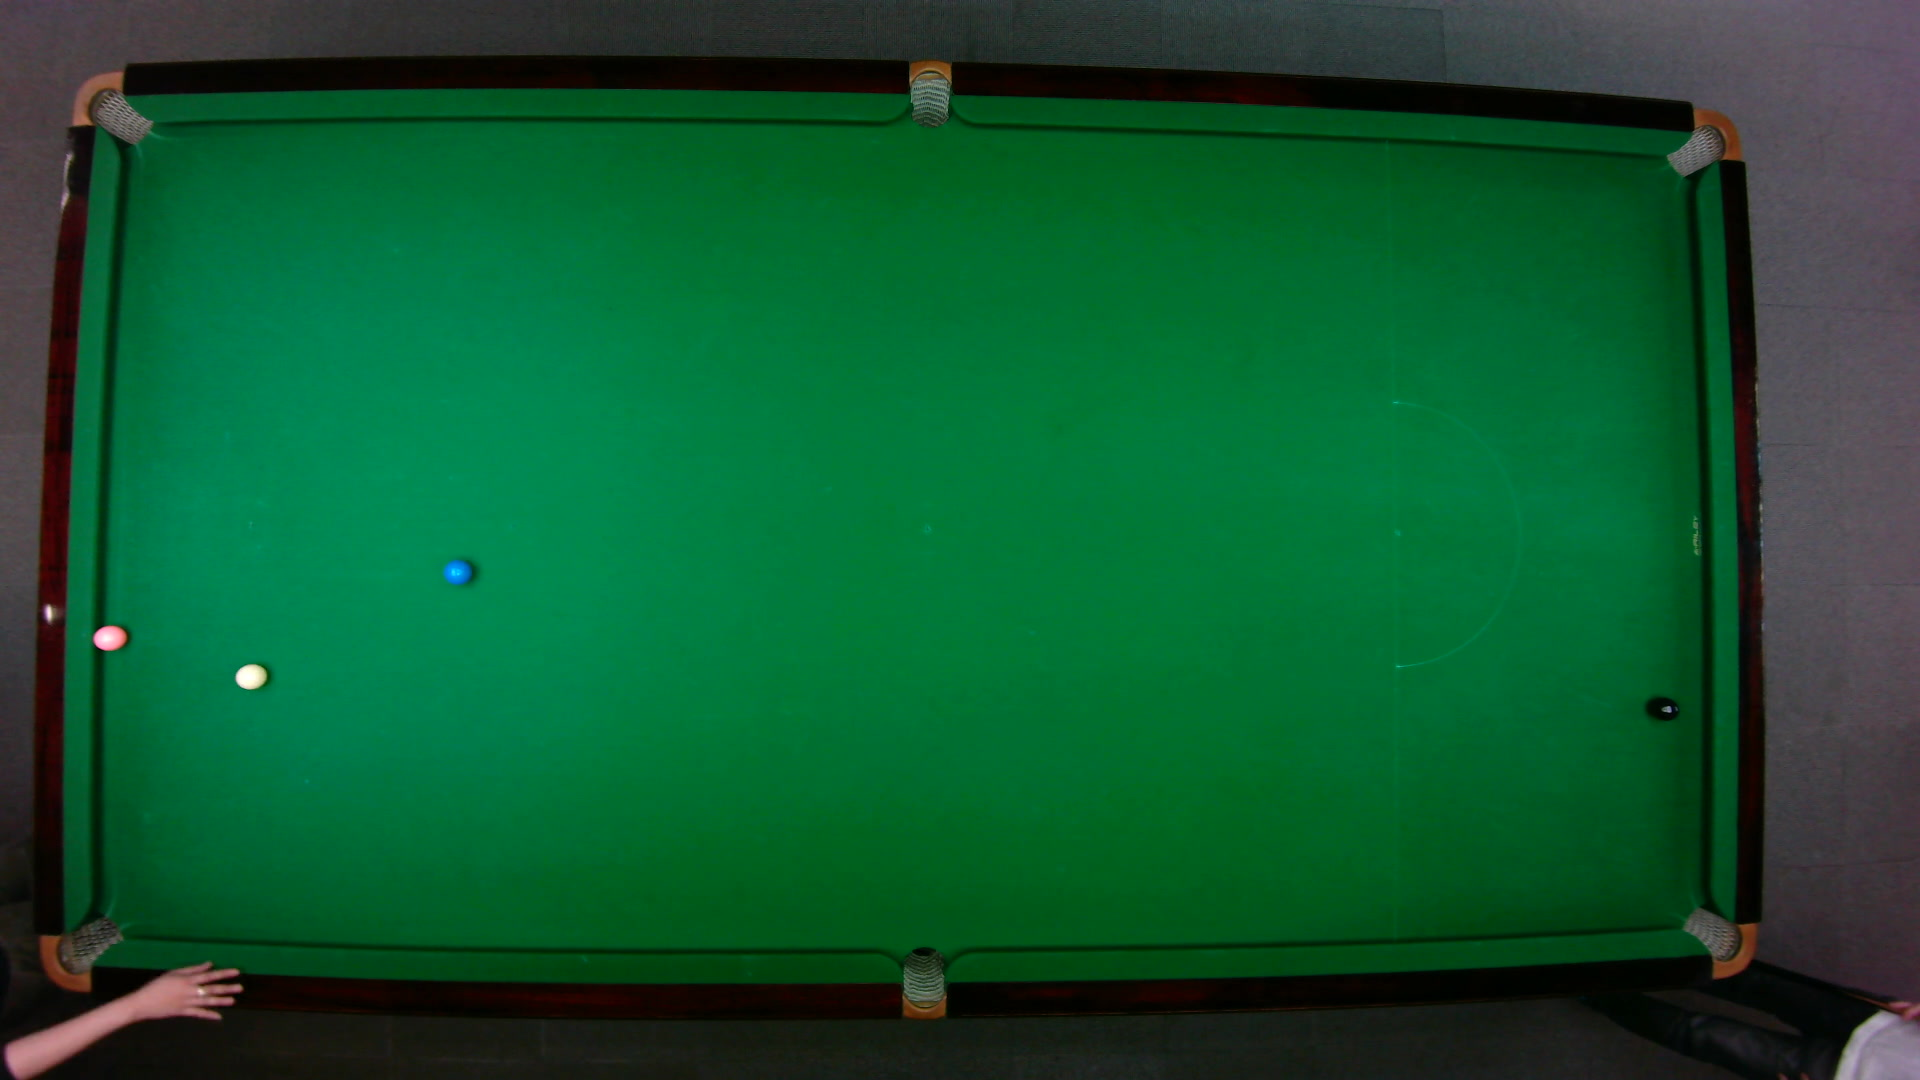bag: (37, 913, 125, 992), (69, 69, 153, 145), (1679, 905, 1756, 978), (1663, 107, 1741, 177), (901, 944, 944, 1021), (909, 57, 949, 128)
black: (1651, 695, 1679, 720)
blue: (440, 556, 473, 585)
pink: (90, 621, 128, 651)
white: (233, 661, 269, 690)
zone: (1390, 400, 1520, 669)
